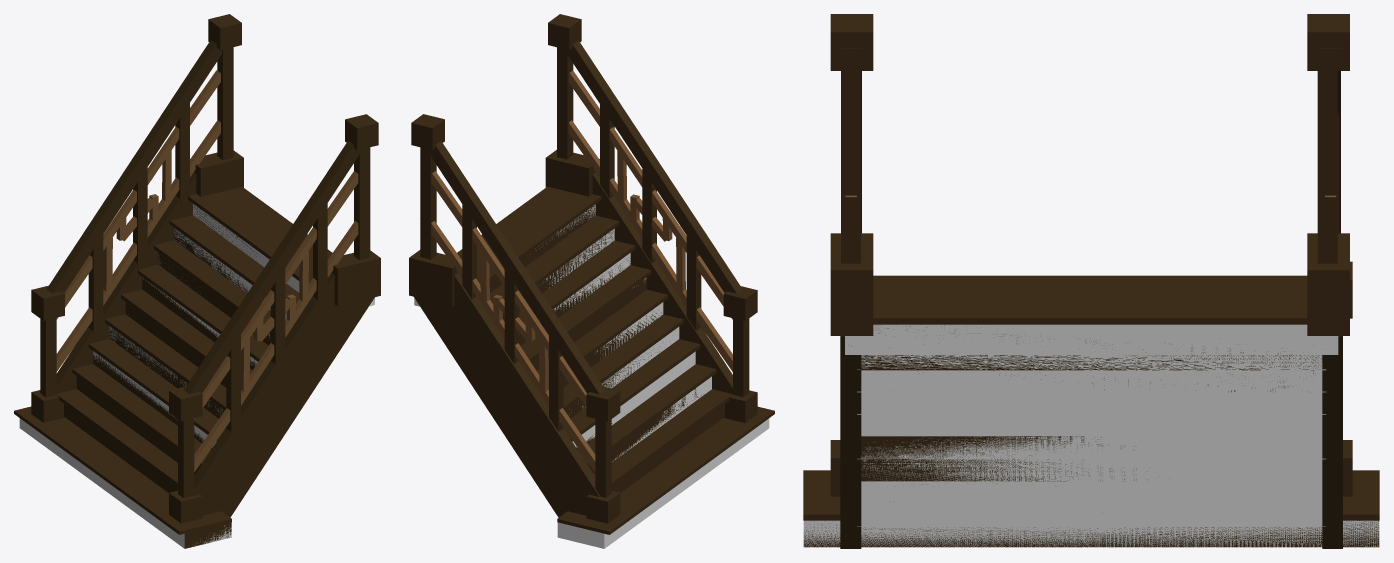
File: stairs4.fbx
The picture shows the model from 3 angles, left to right: view 1: azimuth 30°, elevation 25°; view 2: azimuth 150°, elevation 25°; view 3: azimuth 270°, elevation 25°; orthographic projection. The views are drawn at different scales.
Parts seen in each view (by area): view 1: Cube.179, Cube.045, Cube.043, Cube.054, Cube.042, Cube.035, Cube.059, Cube.040, Cube.060, Cube.041, Cube.036, Cube.037 (+18 smaller); view 2: Cube.179, Cube.058, Cube.059, Cube.045, Cube.054, Cube.043, Cube.035, Cube.038, Cube.042, Cube.041, Cube.037, Cube.039 (+21 smaller); view 3: Cube.043, Cube.179, Cube.035, Cube.041, Cube.040, Cube.034, Cube.036, Cube.039, Cube.038, Cube.037, Cube.042, Cube.064 (+6 smaller).
Boxes of the visible parts, <box> form: Cube.179: <box>14,32,370,548</box>; Cube.045: <box>189,273,374,499</box>; Cube.043: <box>188,187,374,306</box>; Cube.054: <box>184,140,359,393</box>; Cube.042: <box>169,215,299,319</box>; Cube.035: <box>14,411,231,548</box>; Cube.059: <box>46,40,221,293</box>; Cube.040: <box>138,265,268,365</box>; Cube.060: <box>327,250,380,306</box>; Cube.041: <box>153,240,270,339</box>; Cube.036: <box>73,364,210,463</box>; Cube.037: <box>89,339,225,447</box>; Cube.179: <box>409,23,774,534</box>; Cube.058: <box>414,273,600,517</box>; Cube.059: <box>427,141,601,394</box>; Cube.045: <box>592,172,737,395</box>; Cube.054: <box>573,40,742,293</box>; Cube.043: <box>414,186,600,306</box>; Cube.035: <box>557,411,774,548</box>; Cube.038: <box>563,314,683,415</box>; Cube.042: <box>490,215,619,303</box>; Cube.041: <box>504,240,635,324</box>; Cube.037: <box>572,340,700,447</box>; Cube.039: <box>536,289,667,381</box>; Cube.043: <box>845,275,1338,354</box>; Cube.179: <box>803,32,1379,548</box>; Cube.035: <box>803,514,1379,547</box>; Cube.041: <box>857,370,1325,392</box>; Cube.040: <box>857,392,1326,414</box>; Cube.034: <box>857,504,1325,526</box>; Cube.036: <box>861,481,1322,503</box>; Cube.039: <box>861,414,1322,436</box>; Cube.038: <box>857,436,1325,459</box>; Cube.037: <box>861,459,1322,481</box>; Cube.042: <box>857,355,1326,370</box>; Cube.064: <box>1317,71,1337,263</box>.
Size of the model in its own units: 1287 by 2183 by 1762.
